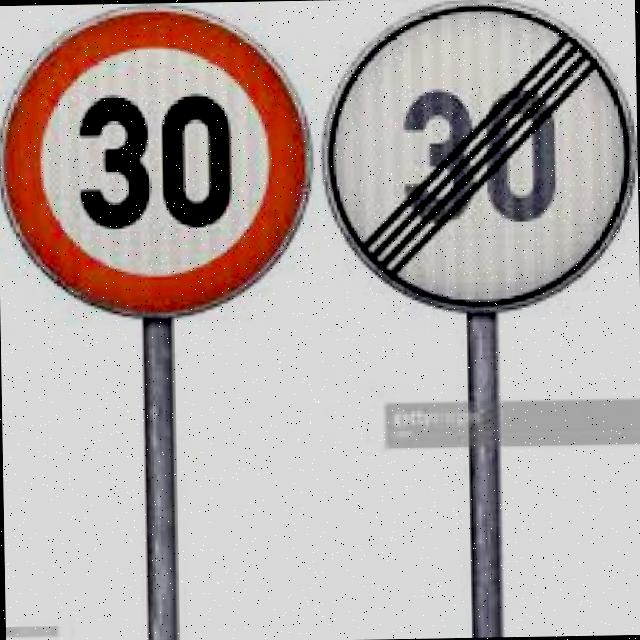Ograniczenie predkosci do 30: (0, 3, 319, 327)
